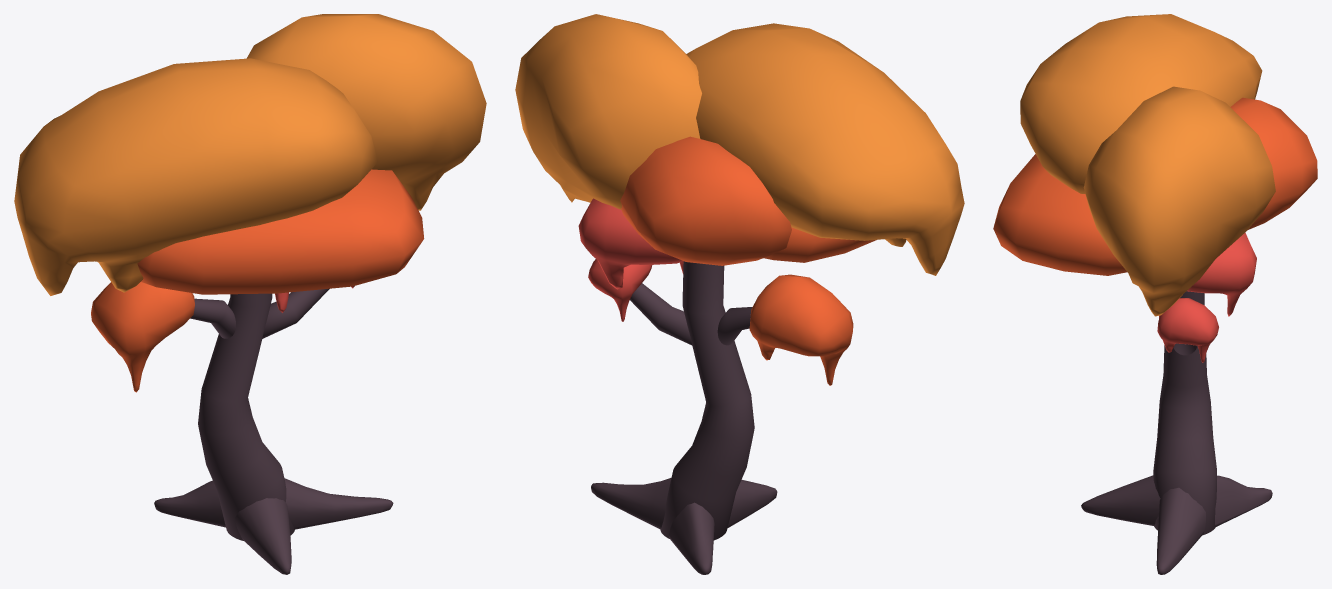
Rendered from tree11.fbx.
The picture shows the model from 3 angles, left to right: view 1: azimuth 30°, elevation 25°; view 2: azimuth 150°, elevation 25°; view 3: azimuth 270°, elevation 25°; orthographic projection. The views are drawn at different scales.
Visible parts, largest first — view 1: tree11; view 2: tree11; view 3: tree11.
Boxes of the visible parts, left/top/right/bottom form: tree11: left=14, top=14, right=486, bottom=574; tree11: left=515, top=14, right=964, bottom=574; tree11: left=993, top=14, right=1317, bottom=574.
Bounding box in the file's own units: 810 × 855 × 545.
